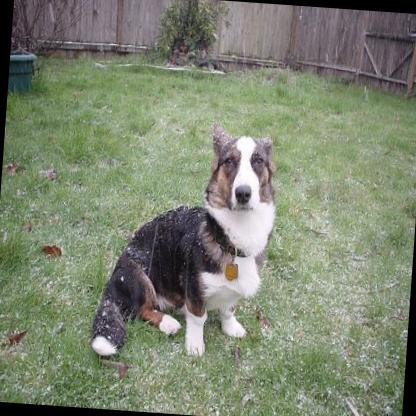Cardigan: (89, 112, 283, 370)
